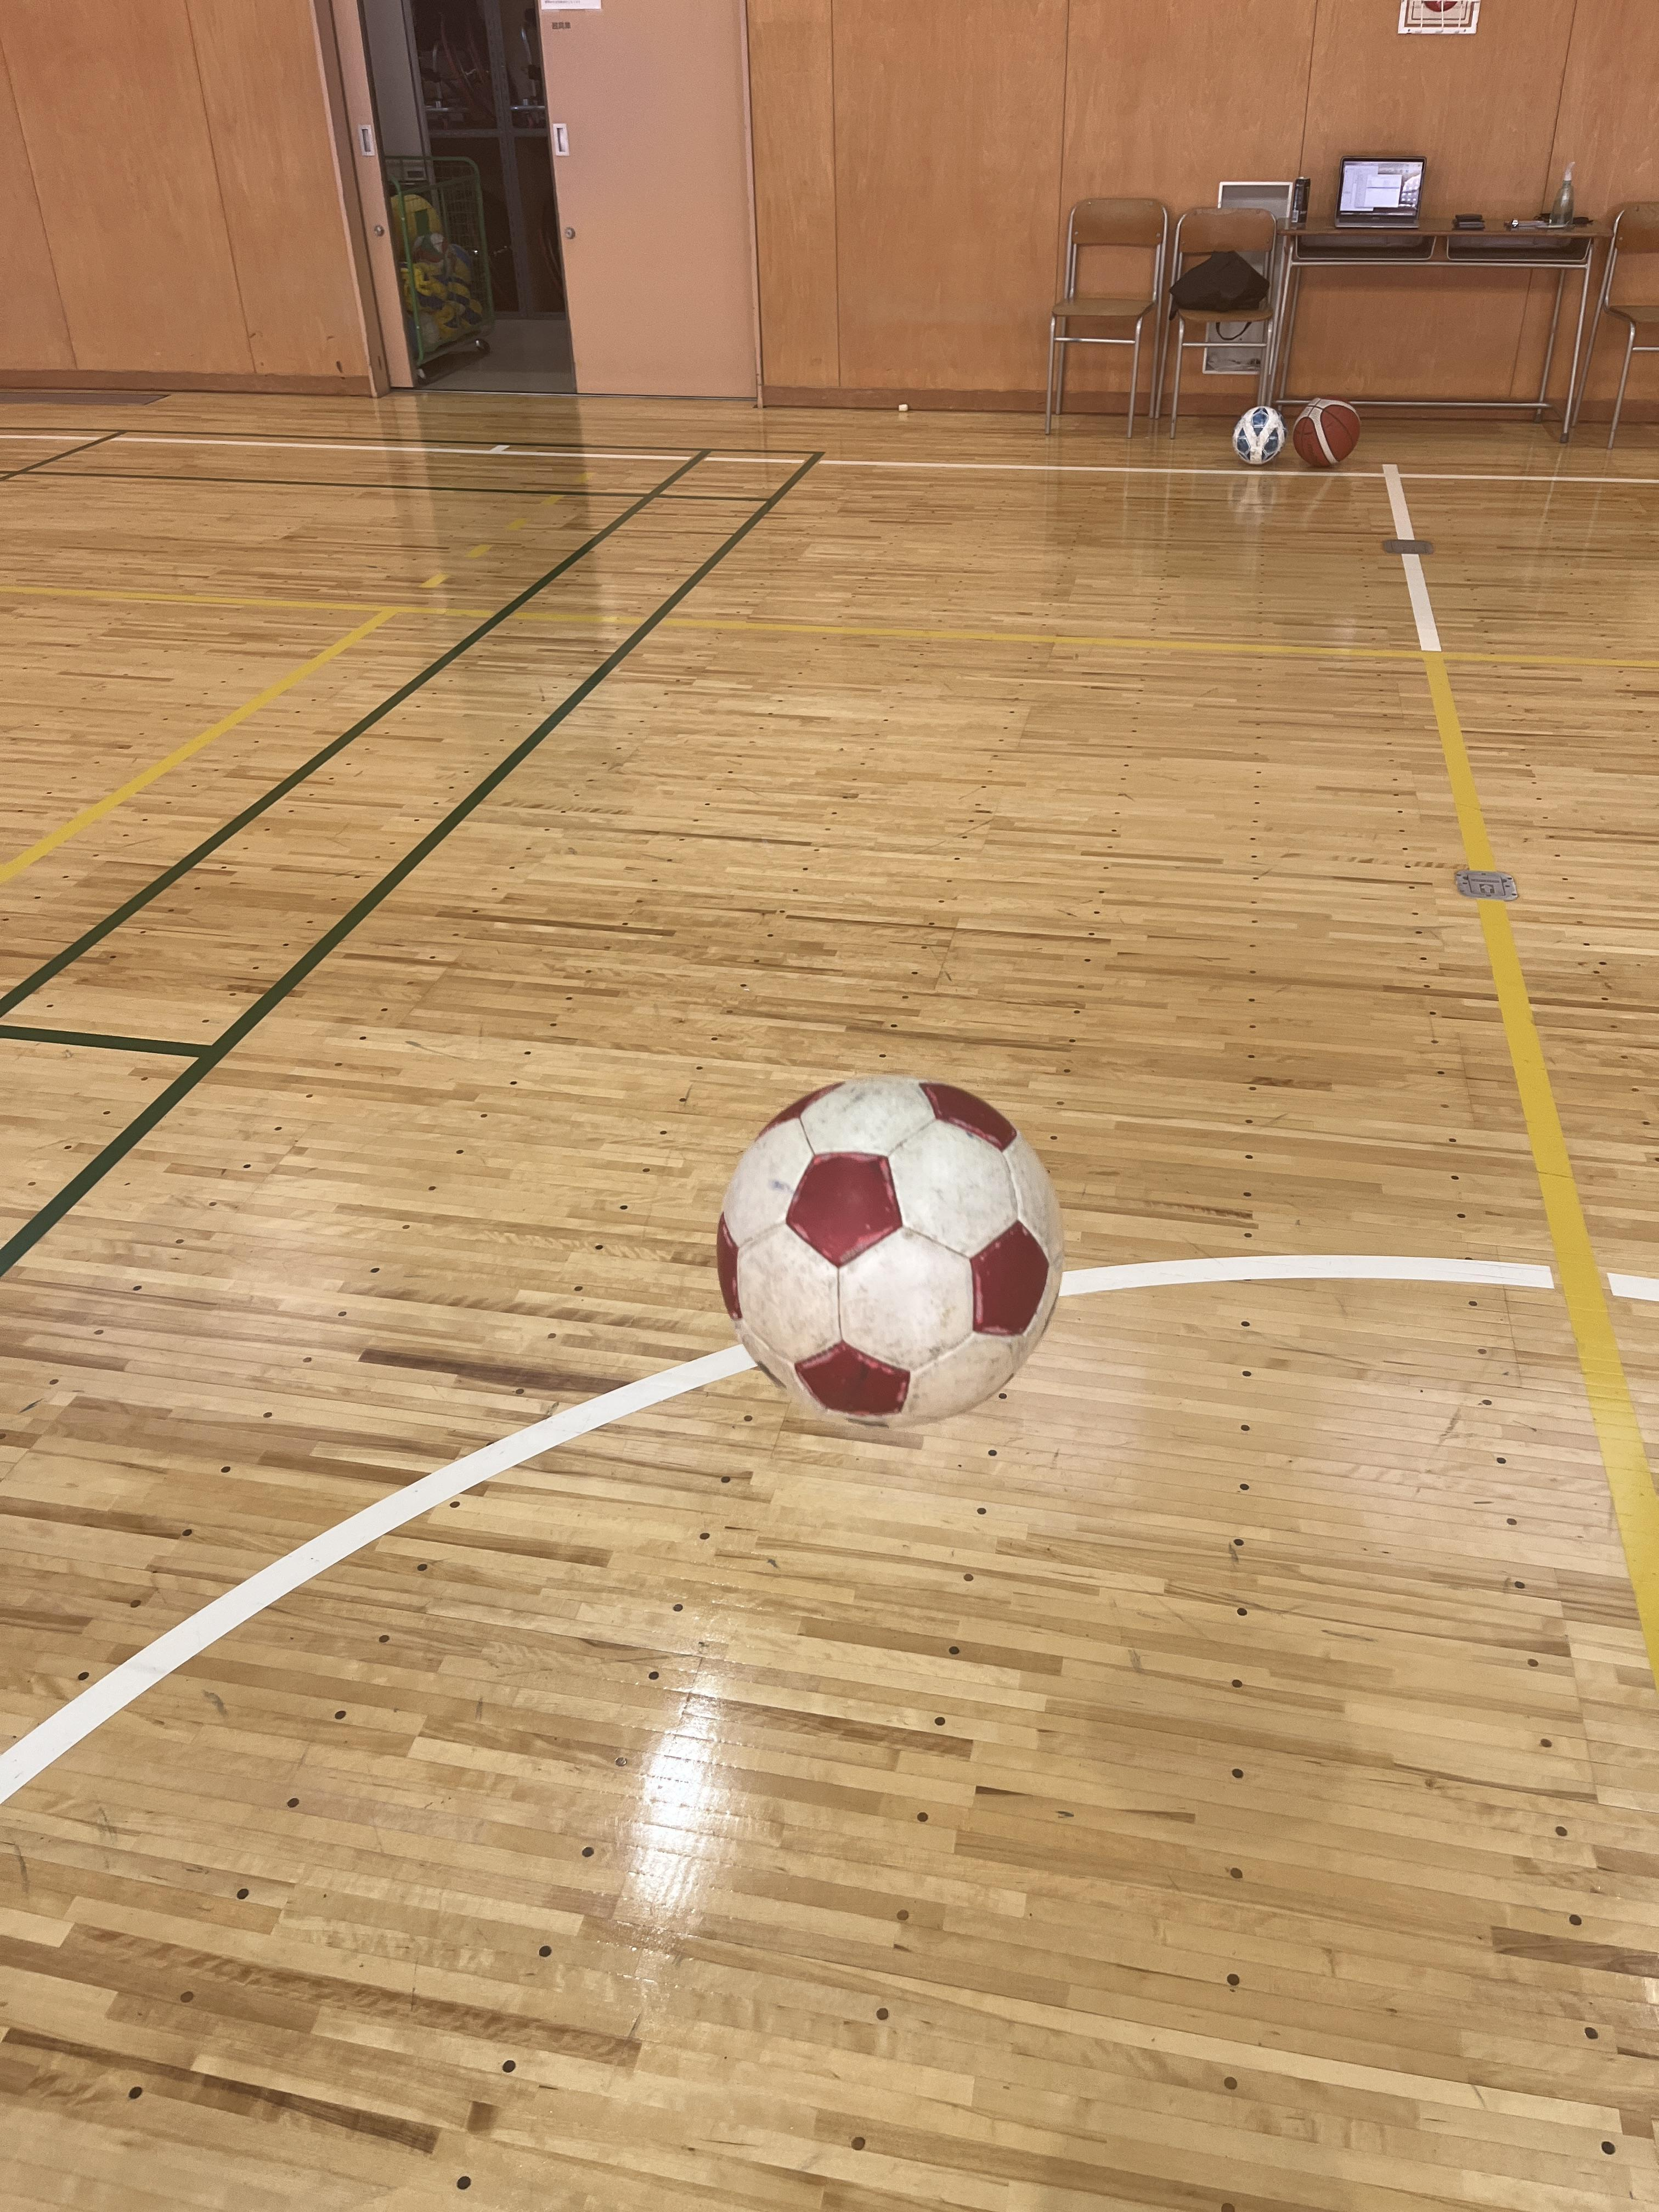Sports-Ball: (730, 1089, 1080, 1437)
